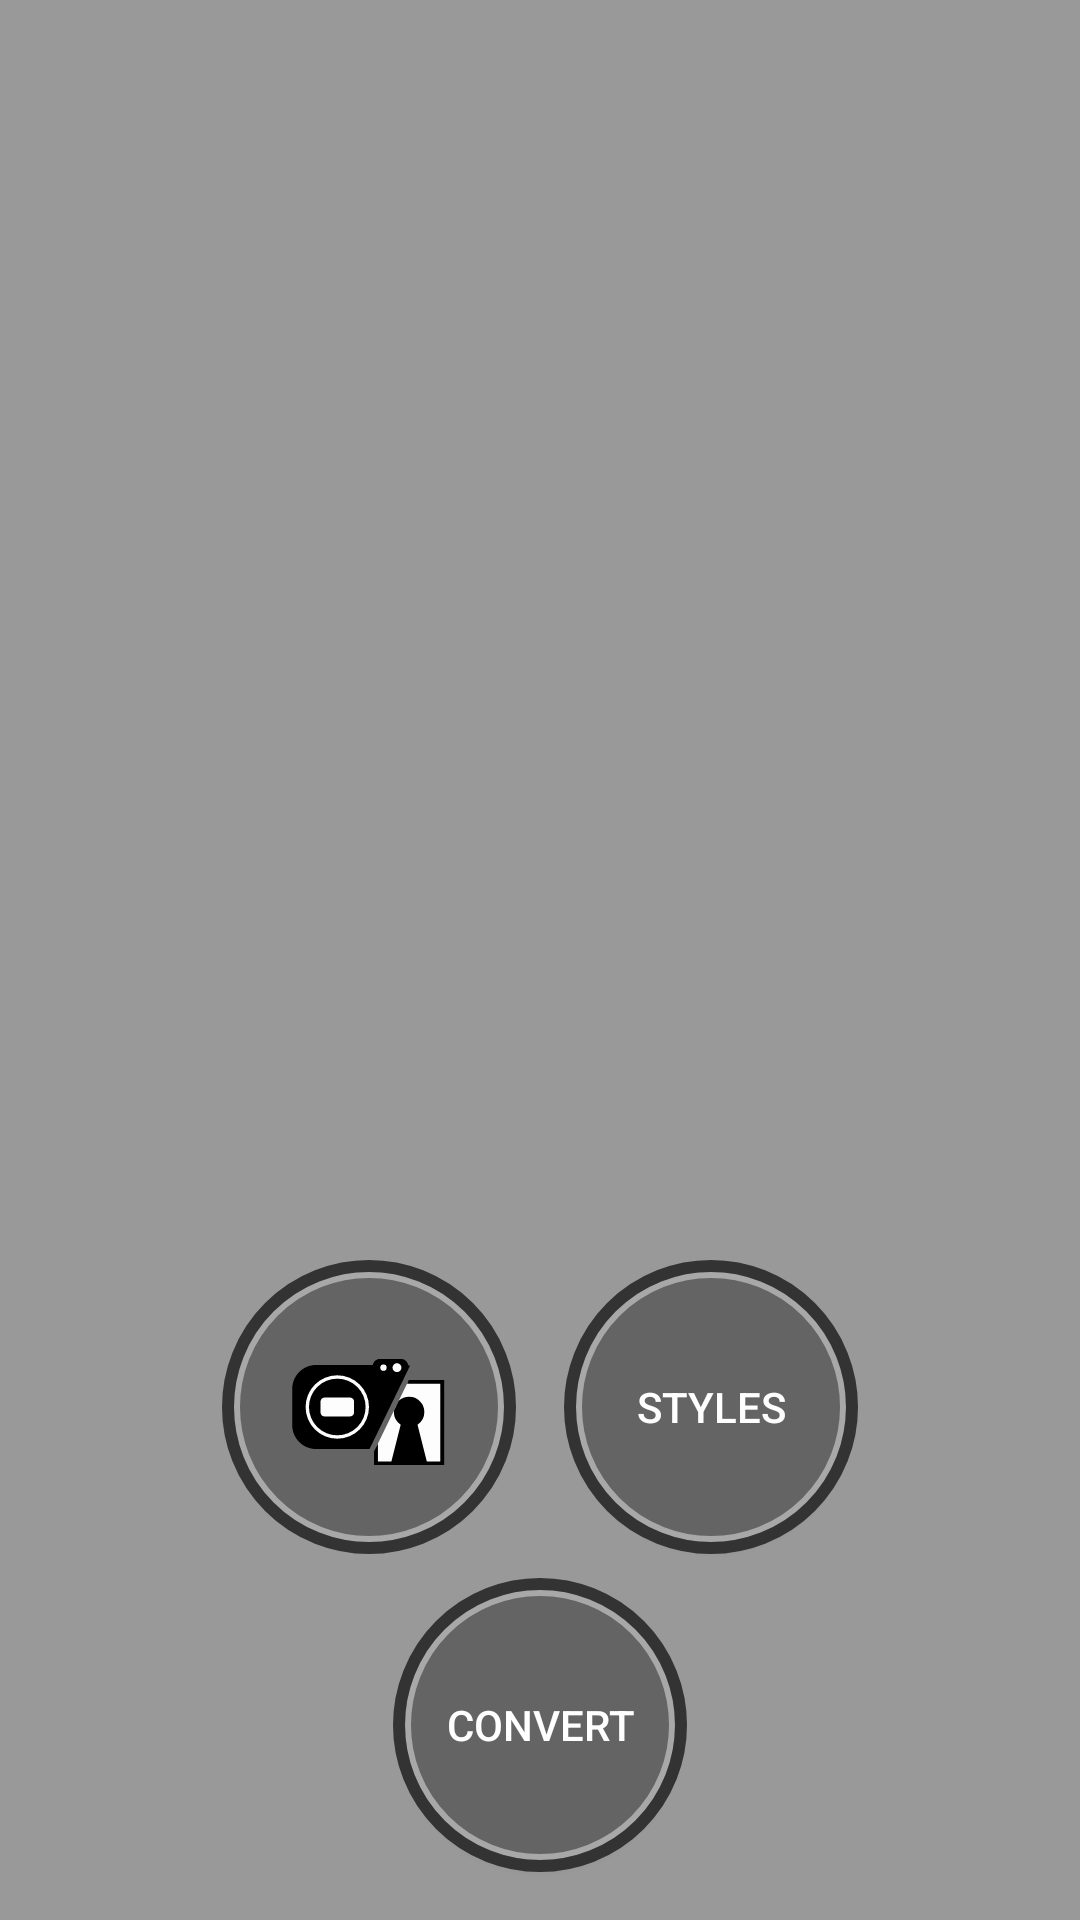

Icon click points for this 1080×1920 phone screenshot, format (x,y):
photo: (369,1407)
